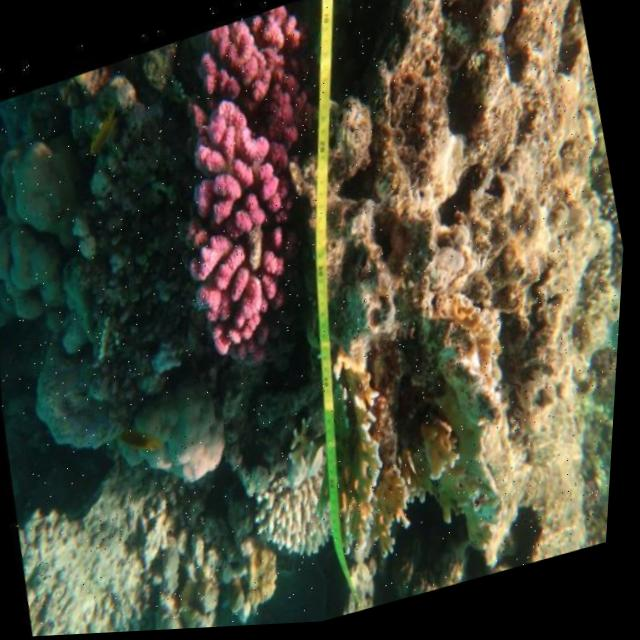Healthy Coral: (126, 0, 379, 387)
